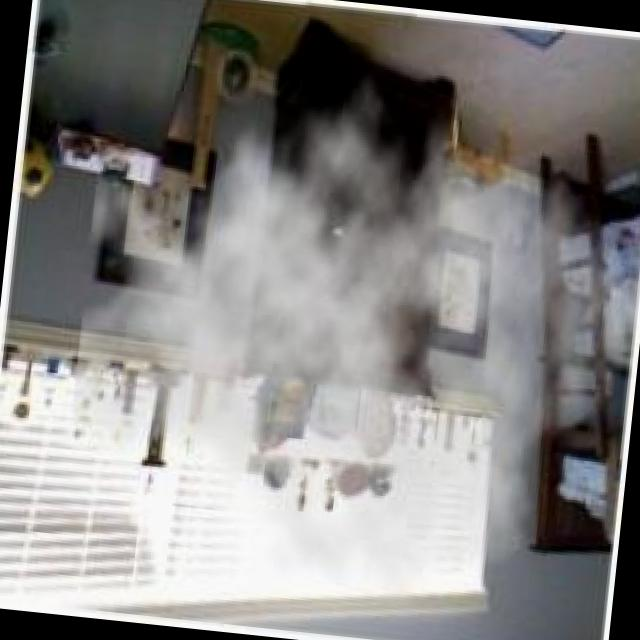smoke: (153, 170, 456, 491)
